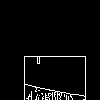L: (25, 25, 44, 75)
